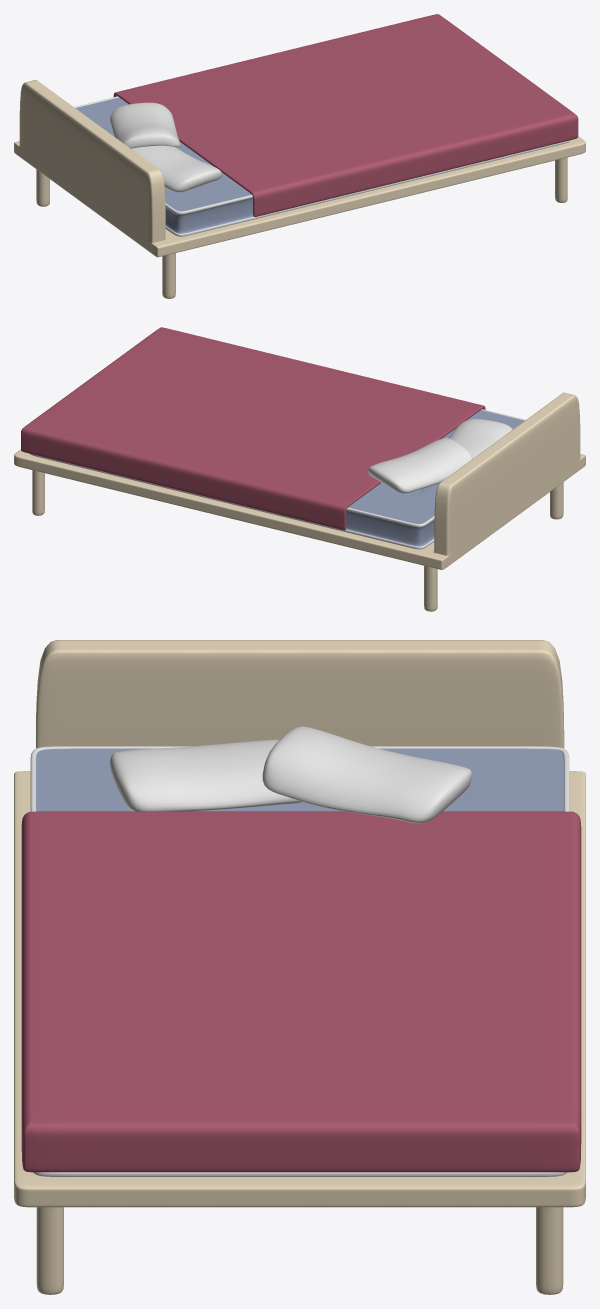
File: Bed.fbx
3 views of the same model, one above another, from view 1: azimuth 30°, elevation 25°; view 2: azimuth 150°, elevation 25°; view 3: azimuth 270°, elevation 25° (orthographic). The views are drawn at different scales.
Parts seen in each view (by area): view 1: pCube371; view 2: pCube371; view 3: pCube371.
Part boxes in pixels (x1=…): pCube371: x1=14, y1=14, x2=585, y2=298; pCube371: x1=14, y1=327, x2=585, y2=611; pCube371: x1=14, y1=640, x2=585, y2=1294.
Size of the model in its own units: 518 by 146 by 300.
